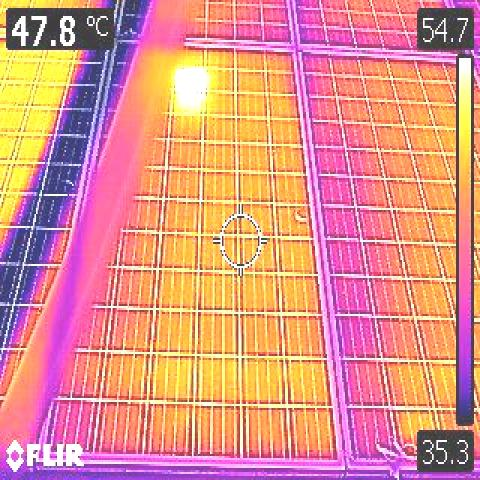fault: (176, 70, 206, 92), (176, 94, 202, 112)
